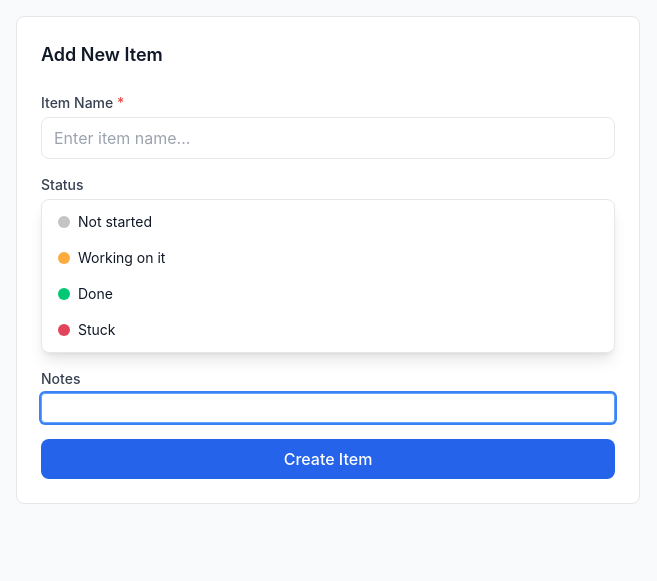
Test: FormView › success message appears after submit and form resets
Type "New Task" into the field with placeholder "Enter item name...". click: (328, 138)
box: [41,117,615,159]
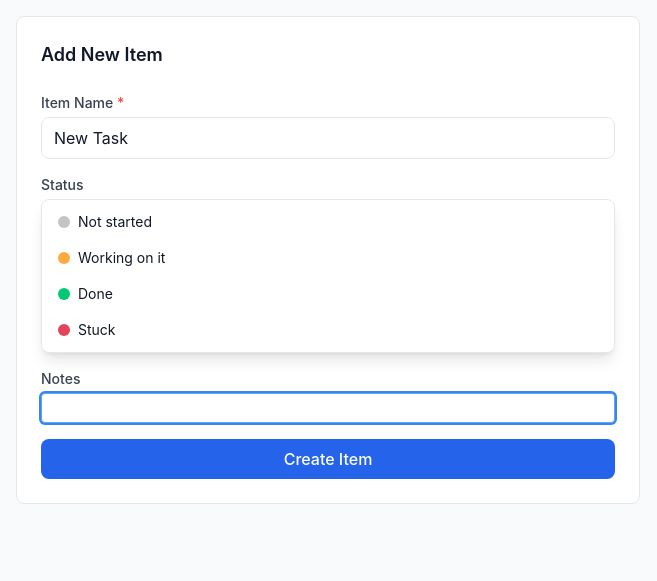
Click the button "Create Item". click: click(328, 459)
box: [41,439,615,479]
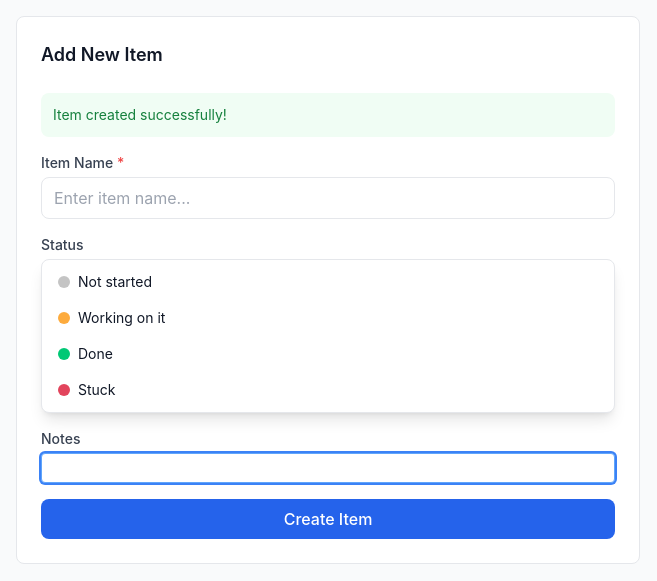
Now the text "Item created successfully!" is shown, box [41,93,615,137]
Now the field with placeholder "Enter item name..." is empty, box [41,177,615,219]
